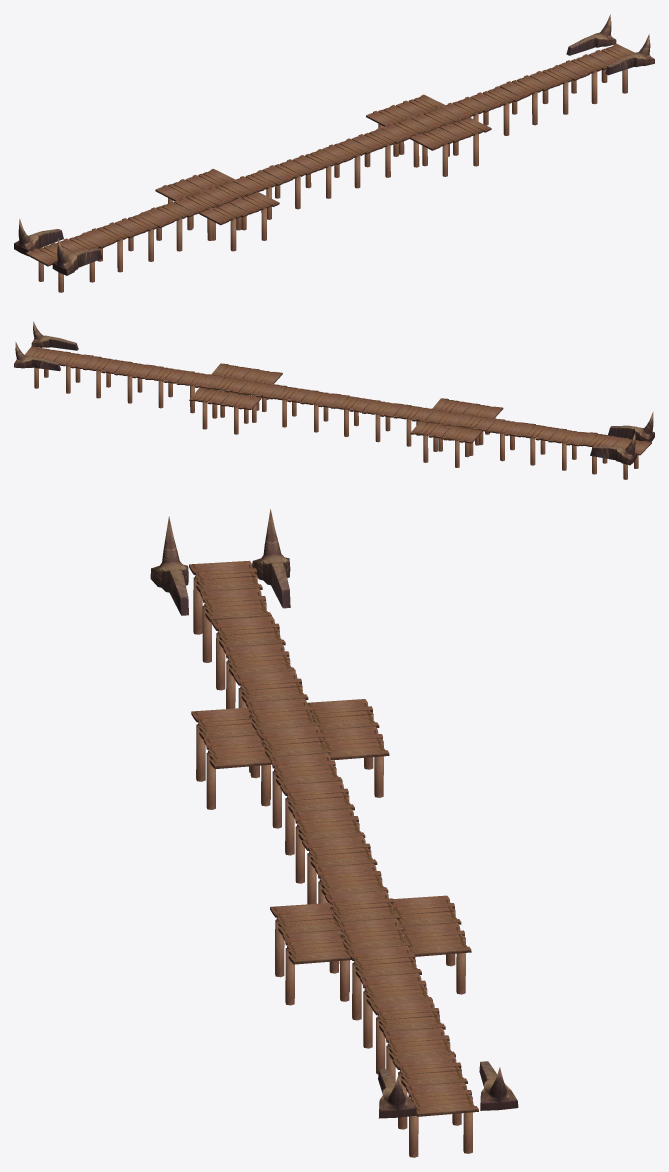
File: area_09_12.fbx
3 renders of one model, top to bottom at view 1: azimuth 30°, elevation 25°; view 2: azimuth 150°, elevation 25°; view 3: azimuth 270°, elevation 25°, orthographic. The views are drawn at different scales.
Parts seen in each view (by area): view 1: area_09_12; view 2: area_09_12; view 3: area_09_12.
Part boxes in pixels (left/top/right/bottom): area_09_12: left=14, top=14, right=654, bottom=292; area_09_12: left=14, top=321, right=654, bottom=479; area_09_12: left=150, top=509, right=518, bottom=1157.
Bounding box in the file's own units: 139 × 12.86 × 38.71.
